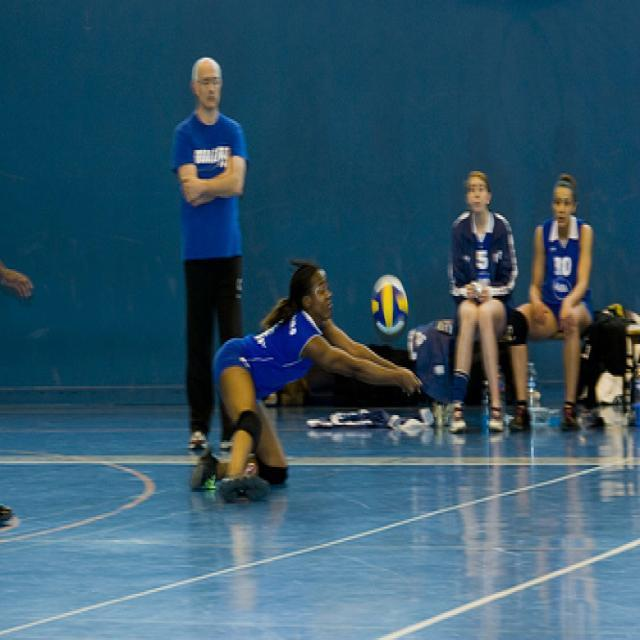volleyball: (371, 275, 409, 336)
